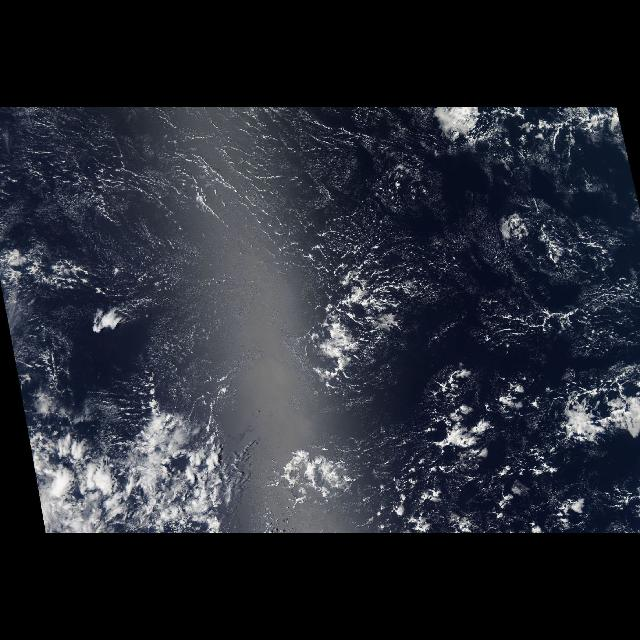Gravel: (347, 427, 478, 533), (467, 288, 637, 362)
Sugar: (2, 108, 482, 408)
